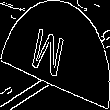M_S: (36, 24, 74, 86)
